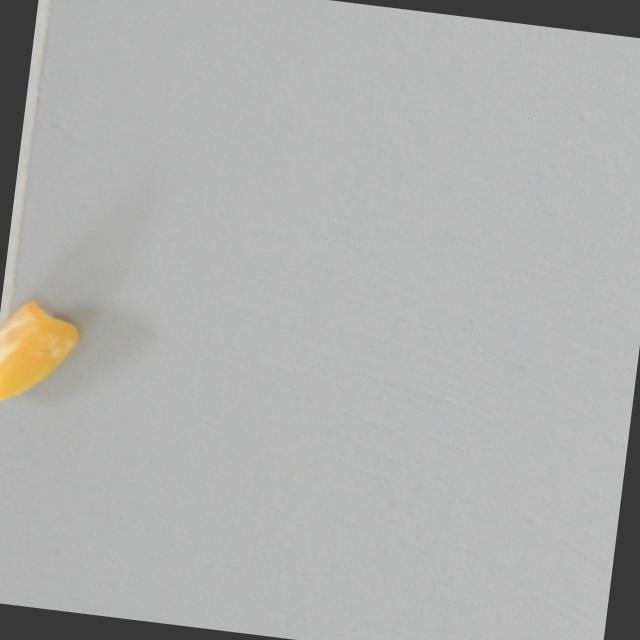pelicula: (0, 292, 100, 433)
